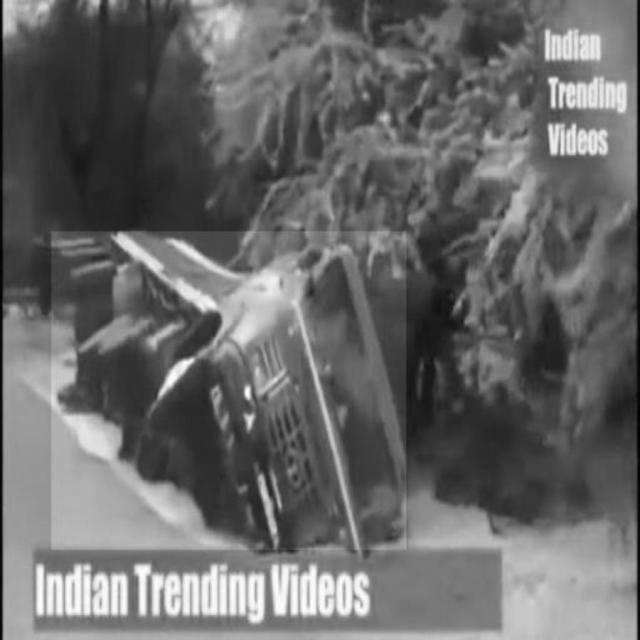vehicle: (52, 231, 407, 549)
